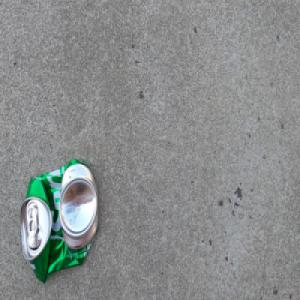SodaCan: (18, 156, 100, 285)
